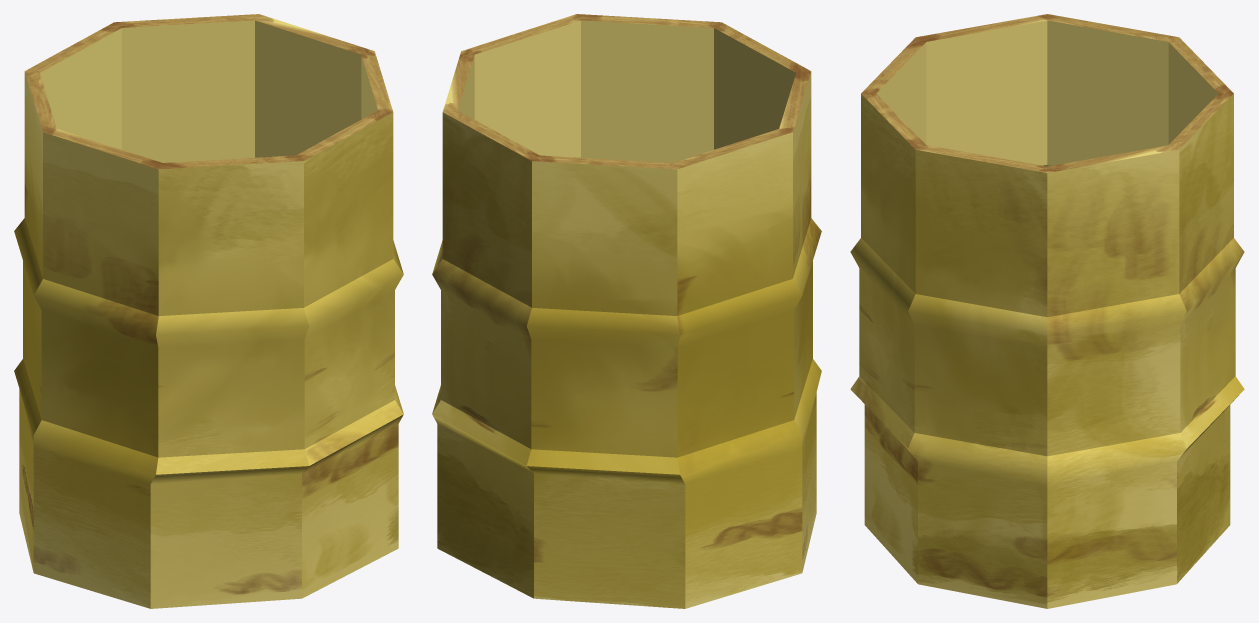
File: Bucket_yellow.fbx
3 renders of one model, left to right at view 1: azimuth 30°, elevation 25°; view 2: azimuth 150°, elevation 25°; view 3: azimuth 270°, elevation 25°, orthographic.
Parts seen in each view (by area): view 1: Bucket_yellow; view 2: Bucket_yellow; view 3: Bucket_yellow.
Part boxes in pixels (left/top/right/bottom): Bucket_yellow: left=14, top=14, right=403, bottom=608; Bucket_yellow: left=432, top=14, right=821, bottom=608; Bucket_yellow: left=850, top=14, right=1244, bottom=608.
Size of the model in its own units: 1.07 by 1.28 by 1.06.
